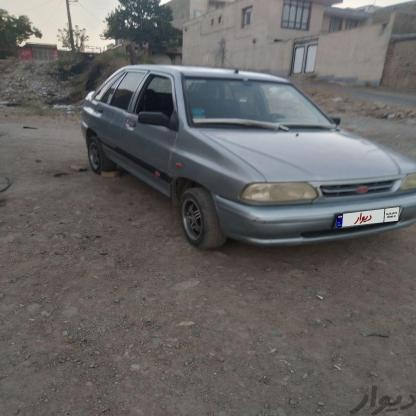Car: (56, 50, 416, 254)
